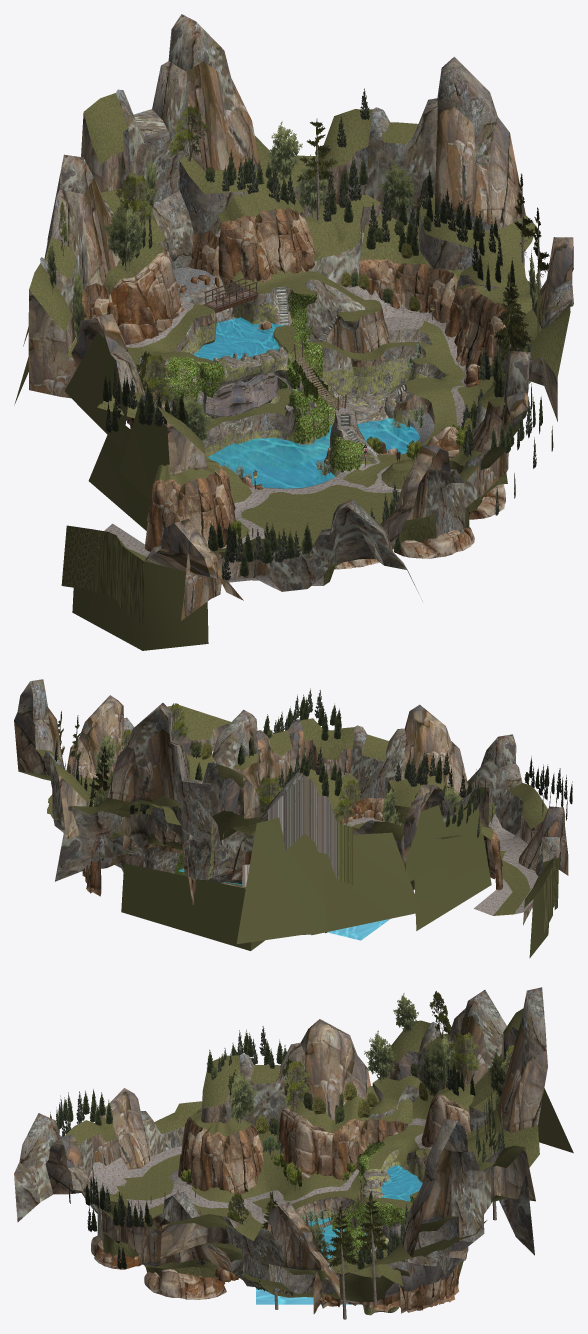
File: hill.glb
The picture shows the model from 3 angles, top to bottom: view 1: azimuth 30°, elevation 25°; view 2: azimuth 150°, elevation 25°; view 3: azimuth 270°, elevation 25°; orthographic projection. The views are drawn at different scales.
Visible parts, largest first — view 1: mesh_13_12.nr, mesh_12_11.nr, mesh_29_28.nr, mesh_21_20.nr, mesh_6_5.nr, mesh_61_60.nr, mesh_17_16.nr, mesh_3_2.nr, mesh_66_65.nr, mesh_16_15.nr, mesh_24_23.nr, mesh_9_8.nr (+20 smaller); view 2: mesh_21_20.nr, mesh_12_11.nr, mesh_13_12.nr, mesh_29_28.nr, mesh_61_60.nr, mesh_16_15.nr, mesh_27_26.nr, mesh_6_5.nr, mesh_65_64.nr, mesh_66_65.nr, mesh_3_2.nr, mesh_24_23.nr (+4 smaller); view 3: mesh_13_12.nr, mesh_12_11.nr, mesh_29_28.nr, mesh_6_5.nr, mesh_3_2.nr, mesh_61_60.nr, mesh_21_20.nr, mesh_27_26.nr, mesh_66_65.nr, mesh_9_8.nr, mesh_65_64.nr, mesh_56_55.nr (+14 smaller).
Boxes of the visible parts, x1=… form: mesh_13_12.nr: x1=28, y1=61, x2=573, y2=620; mesh_12_11.nr: x1=40, y1=14, x2=573, y2=600; mesh_29_28.nr: x1=29, y1=93, x2=573, y2=624; mesh_21_20.nr: x1=14, y1=269, x2=465, y2=650; mesh_6_5.nr: x1=82, y1=207, x2=512, y2=551; mesh_61_60.nr: x1=102, y1=88, x2=553, y2=580; mesh_17_16.nr: x1=180, y1=284, x2=427, y2=476; mesh_3_2.nr: x1=107, y1=248, x2=505, y2=569; mesh_66_65.nr: x1=47, y1=121, x2=536, y2=440; mesh_16_15.nr: x1=134, y1=109, x2=388, y2=434; mesh_24_23.nr: x1=173, y1=279, x2=446, y2=448; mesh_9_8.nr: x1=71, y1=179, x2=540, y2=484; mesh_21_20.nr: x1=121, y1=804, x2=550, y2=958; mesh_12_11.nr: x1=17, y1=679, x2=559, y2=881; mesh_13_12.nr: x1=14, y1=695, x2=568, y2=925; mesh_29_28.nr: x1=19, y1=705, x2=564, y2=932; mesh_61_60.nr: x1=54, y1=688, x2=572, y2=837; mesh_16_15.nr: x1=181, y1=778, x2=242, y2=884; mesh_27_26.nr: x1=56, y1=814, x2=538, y2=915; mesh_6_5.nr: x1=82, y1=796, x2=502, y2=933; mesh_65_64.nr: x1=117, y1=703, x2=417, y2=825; mesh_66_65.nr: x1=91, y1=731, x2=460, y2=837; mesh_3_2.nr: x1=231, y1=797, x2=414, y2=884; mesh_24_23.nr: x1=115, y1=847, x2=179, y2=873; mesh_13_12.nr: x1=45, y1=1016, x2=547, y2=1298; mesh_12_11.nr: x1=14, y1=987, x2=546, y2=1294; mesh_29_28.nr: x1=64, y1=1008, x2=539, y2=1302; mesh_6_5.nr: x1=178, y1=1083, x2=468, y2=1313; mesh_3_2.nr: x1=91, y1=1091, x2=471, y2=1303; mesh_61_60.nr: x1=50, y1=1026, x2=504, y2=1291; mesh_21_20.nr: x1=114, y1=1082, x2=573, y2=1276; mesh_27_26.nr: x1=88, y1=1108, x2=477, y2=1303; mesh_66_65.nr: x1=227, y1=993, x2=506, y2=1274; mesh_9_8.nr: x1=190, y1=1083, x2=508, y2=1285; mesh_65_64.nr: x1=225, y1=991, x2=514, y2=1275; mesh_56_55.nr: x1=331, y1=1142, x2=408, y2=1257.
Bounding box in the file's own units: 85.13 × 56.62 × 89.04.
Materials: 43 (42 with a texture image).
